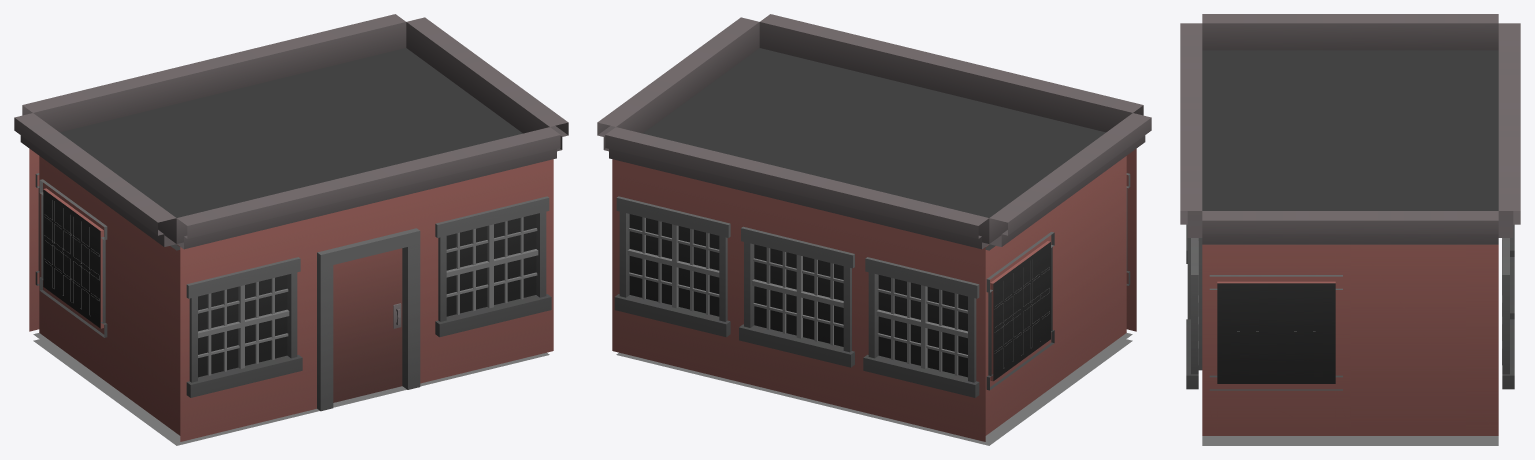
The model's file is shift-office.glb.
3 views of the same model, side by side, from view 1: azimuth 30°, elevation 25°; view 2: azimuth 150°, elevation 25°; view 3: azimuth 270°, elevation 25° (orthographic). The views are drawn at different scales.
Parts seen in each view (by area): view 1: TreyIndustrialShiftOfficeVisual; view 2: TreyIndustrialShiftOfficeVisual; view 3: TreyIndustrialShiftOfficeVisual.
Part boxes in pixels (x1,y1,x2,y2): TreyIndustrialShiftOfficeVisual: [14, 14, 568, 445]; TreyIndustrialShiftOfficeVisual: [597, 14, 1151, 445]; TreyIndustrialShiftOfficeVisual: [1180, 14, 1520, 445].
Bounding box in the file's own units: 6.6 × 3.5 × 4.6.
1 material, 1 textured.
